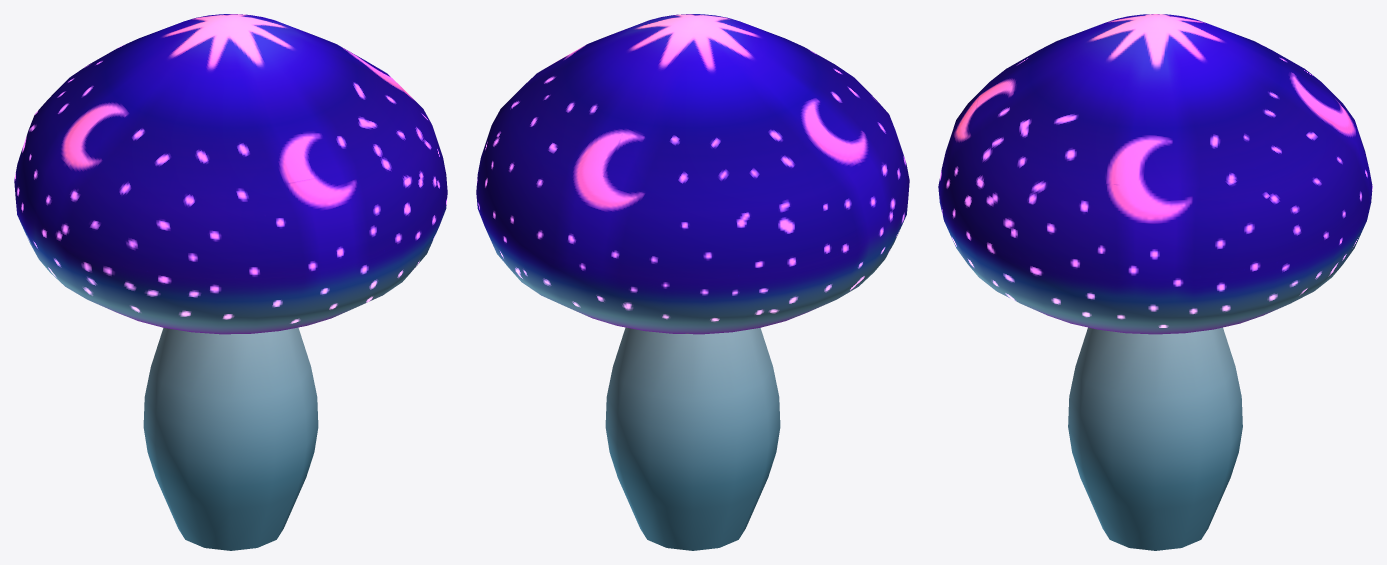
File: Night_Mushroom_B.fbx
The picture shows the model from 3 angles, left to right: view 1: azimuth 30°, elevation 25°; view 2: azimuth 150°, elevation 25°; view 3: azimuth 270°, elevation 25°; orthographic projection.
Visible parts, largest first — view 1: Night_Mushroom_B_LOD0; view 2: Night_Mushroom_B_LOD0; view 3: Night_Mushroom_B_LOD0.
Part boxes in pixels (box(x1,y1,x2,y2)): Night_Mushroom_B_LOD0: box(14, 14, 447, 550); Night_Mushroom_B_LOD0: box(476, 14, 909, 550); Night_Mushroom_B_LOD0: box(938, 14, 1372, 550).
Size of what is drawn, in the model's own units: 77.42 by 100 by 77.42.
Materials: 1 (1 with a texture image).
